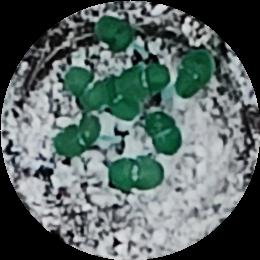Basil: (149, 108, 186, 160), (55, 115, 99, 157), (177, 49, 213, 99), (110, 160, 165, 190), (67, 66, 103, 109), (104, 82, 136, 124), (95, 18, 137, 49), (129, 60, 170, 91)
